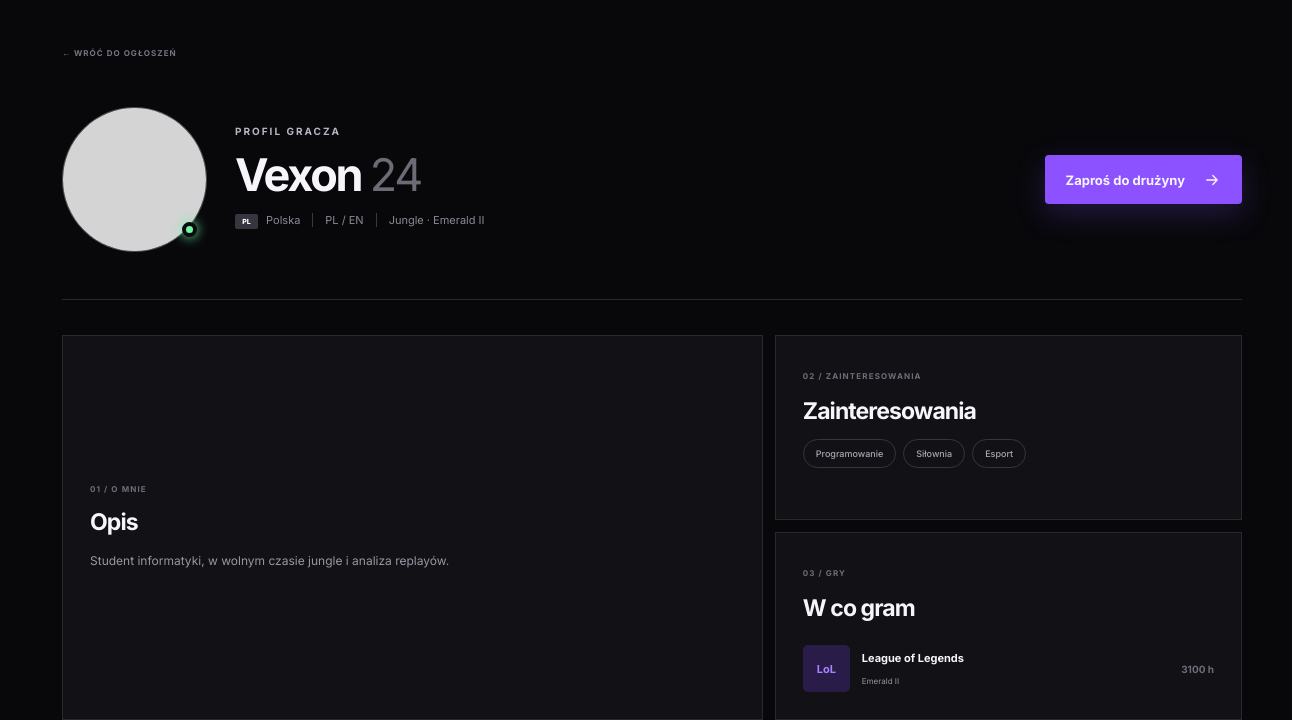
it: ProfilePage › goes back to the dashboard
Click the button "← WRÓĆ DO OGŁOSZEŃ" at (119, 53), box [62,48,177,58]
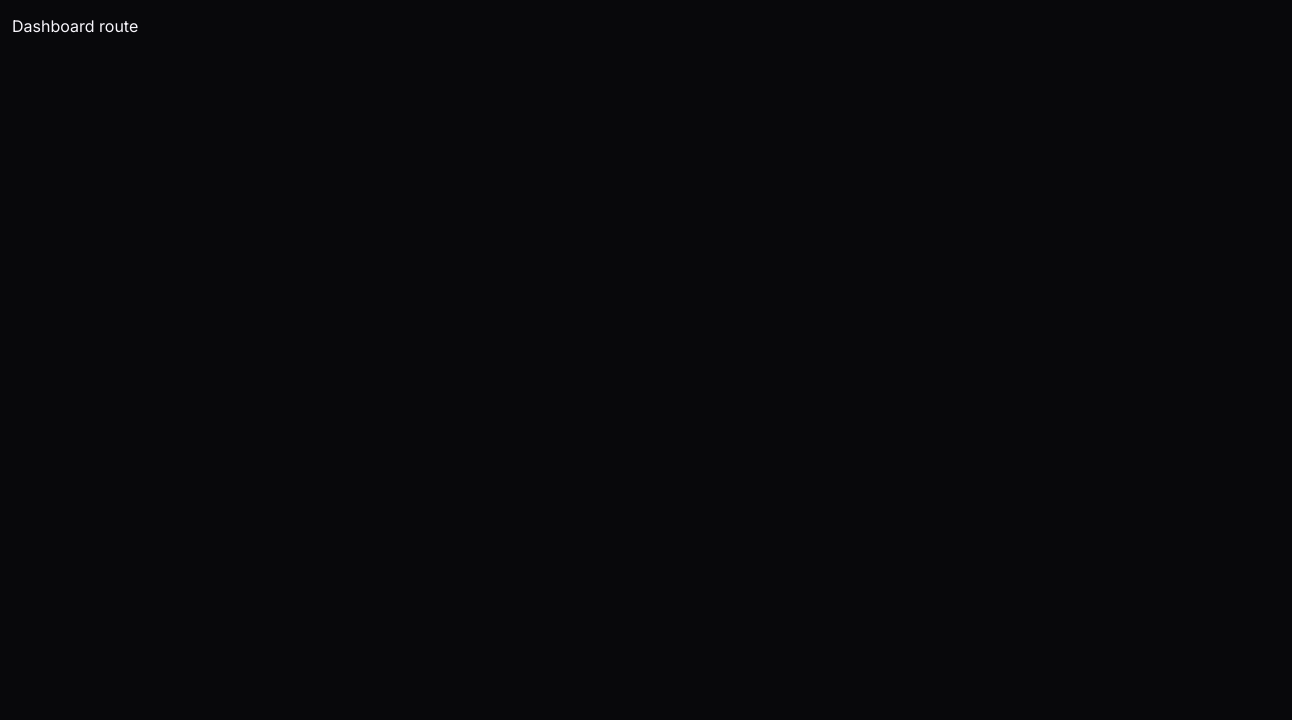
Result: the text "Dashboard route" is shown at [12,16,138,36]
